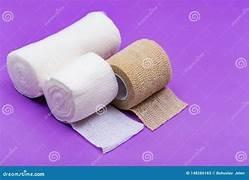cotton: (8, 12, 185, 151), (43, 53, 142, 151), (7, 12, 120, 97), (107, 39, 186, 129), (43, 53, 117, 122), (107, 39, 171, 109), (72, 105, 142, 152), (130, 88, 186, 129)
